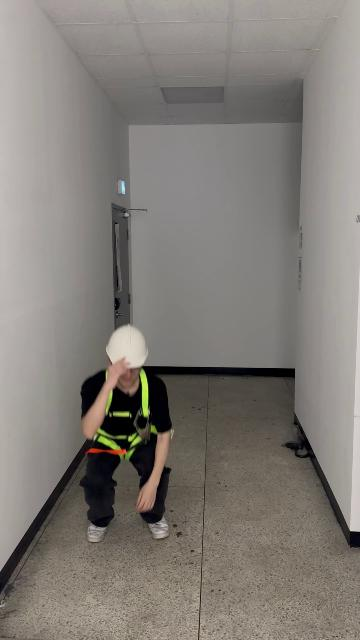helmet_worn: (104, 324, 150, 368)
shoe_not_worn: (148, 516, 170, 539), (87, 522, 108, 542)
vest_worn: (90, 369, 160, 459)
